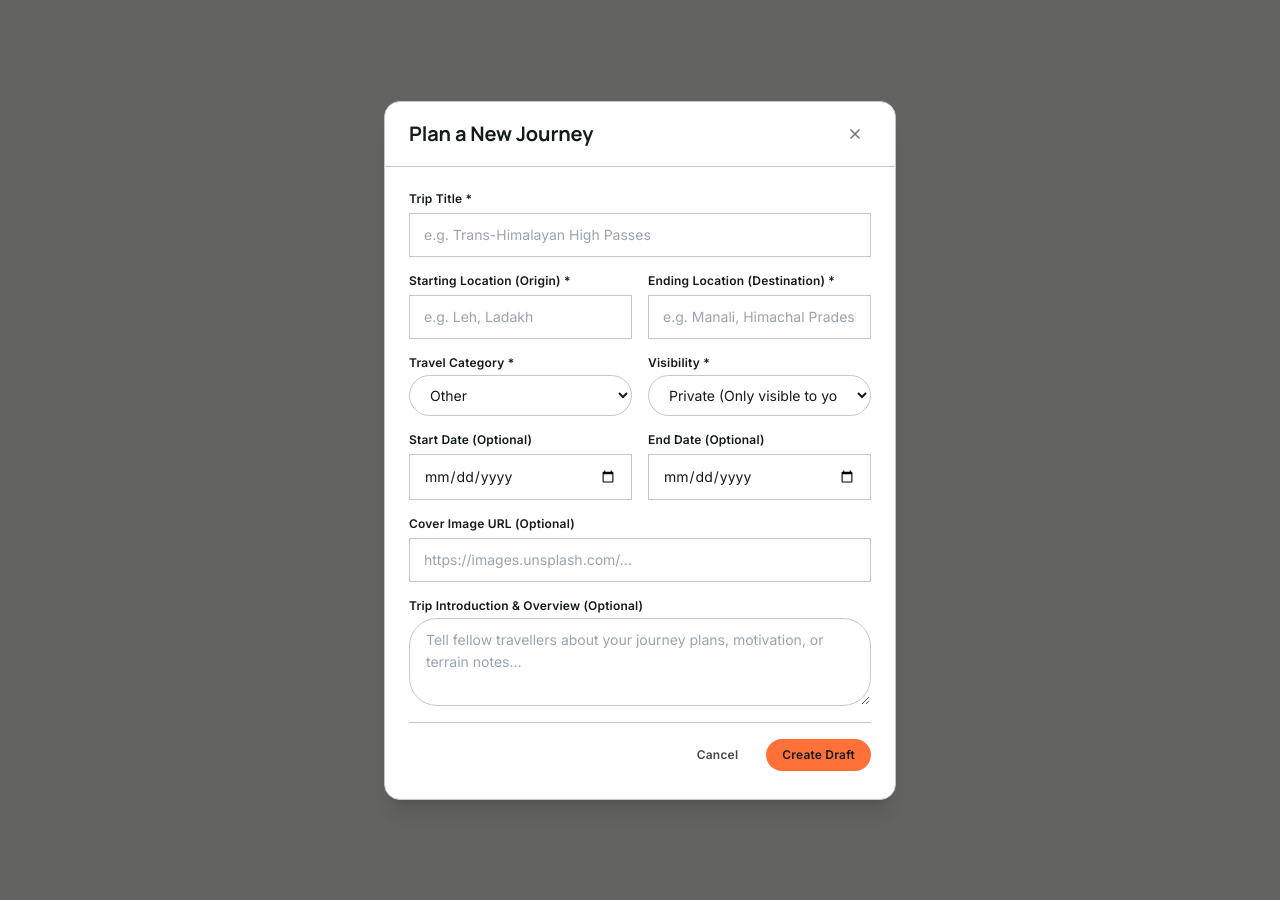
Test: Trip Management Frontend Components & Design System Suite › validates trip dates in TripEditorModal
This screenshot has width=1280, height=900.
Step 1. Type "Zanskar Expedition" into the field with placeholder "e.g. Trans-Himalayan High Passes" → [640, 234], box left=409, top=212, right=871, bottom=256
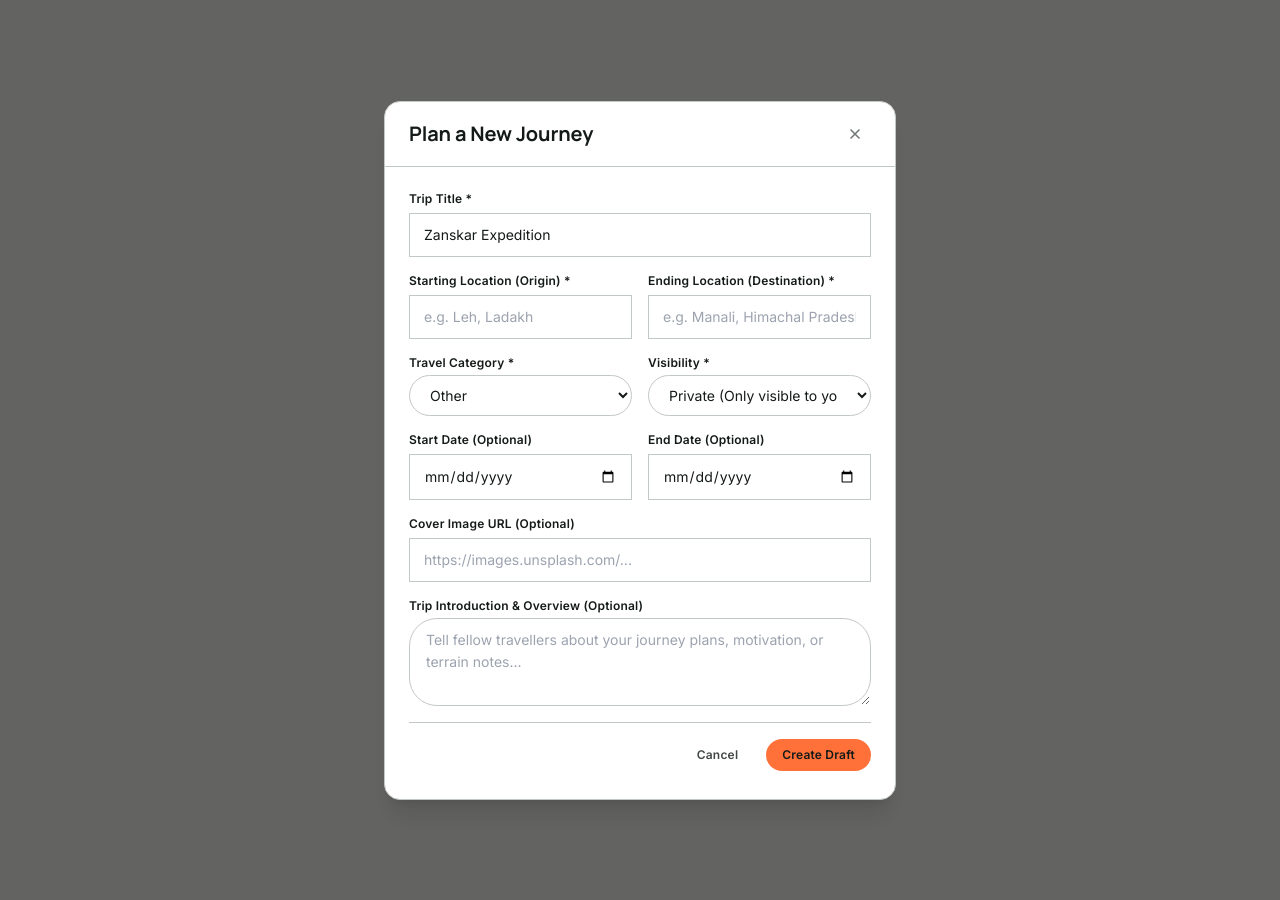
Step 2. Type "Leh" into the field with placeholder "e.g. Leh, Ladakh" → [520, 316], box left=409, top=294, right=632, bottom=338
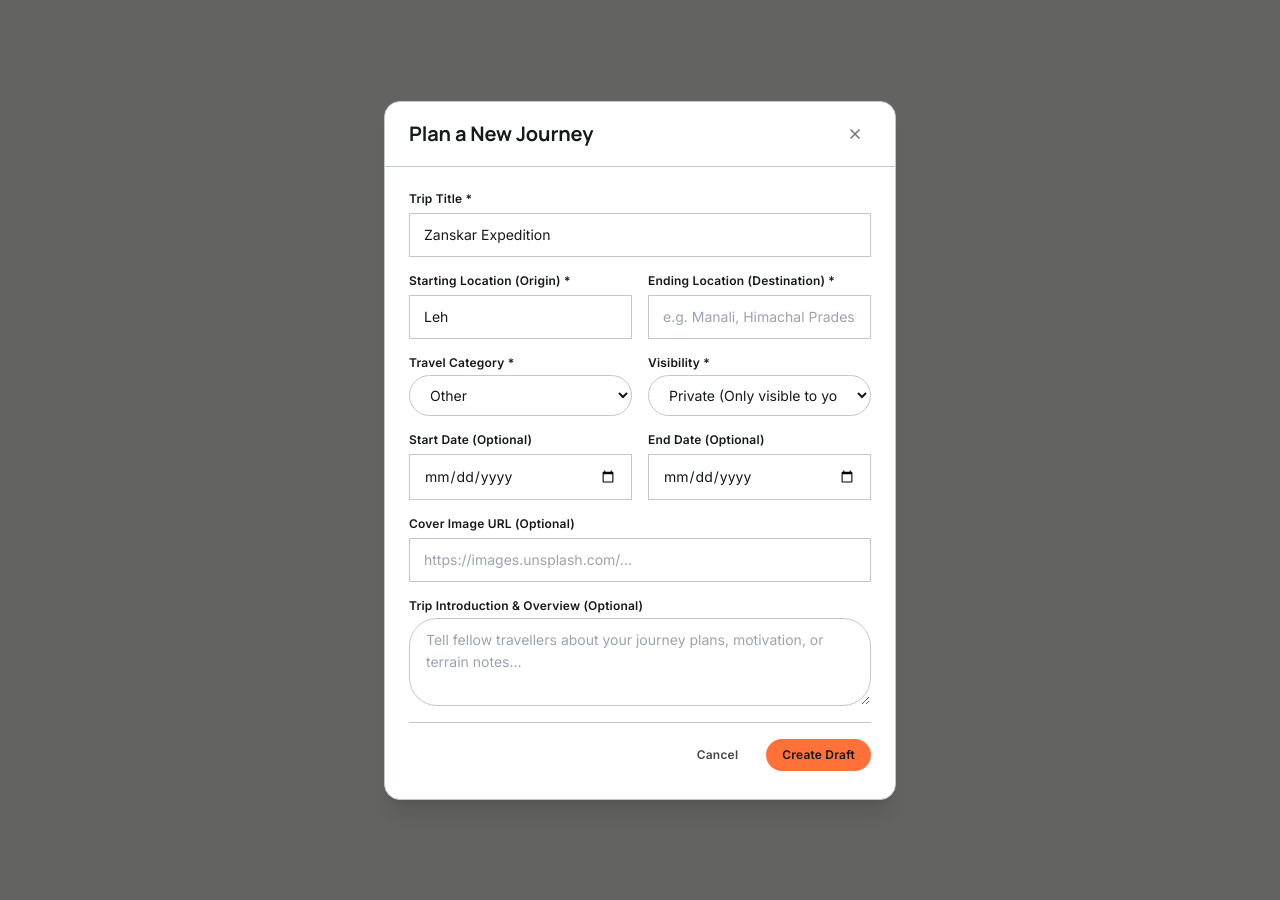
Step 3. Type "Manali" into the field with placeholder "e.g. Manali, Himachal Pradesh" → [760, 316], box left=648, top=294, right=871, bottom=338
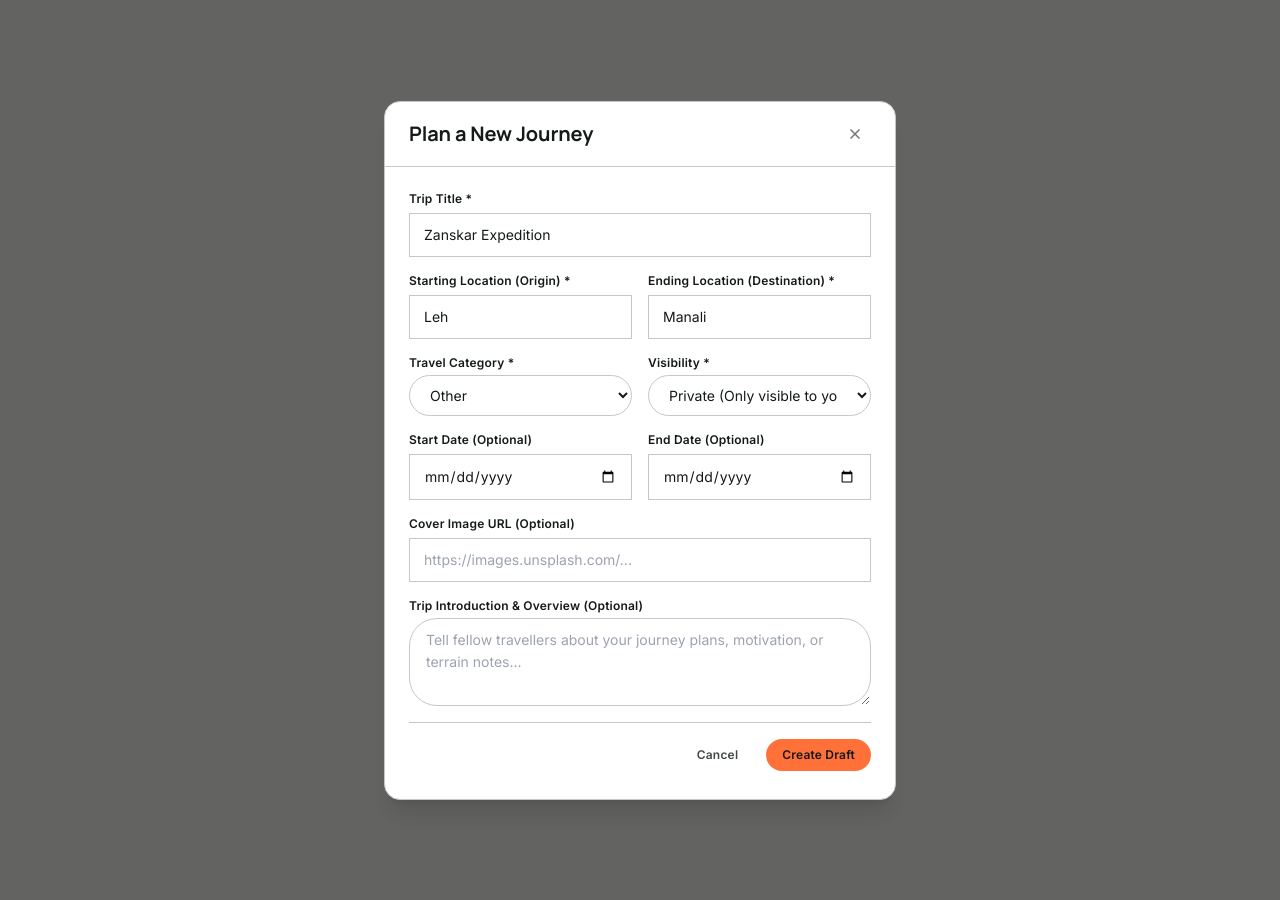
Step 4. Type "2026-08-10" into the date field labelled "Start Date (Optional)" → [520, 476], box left=409, top=454, right=632, bottom=500
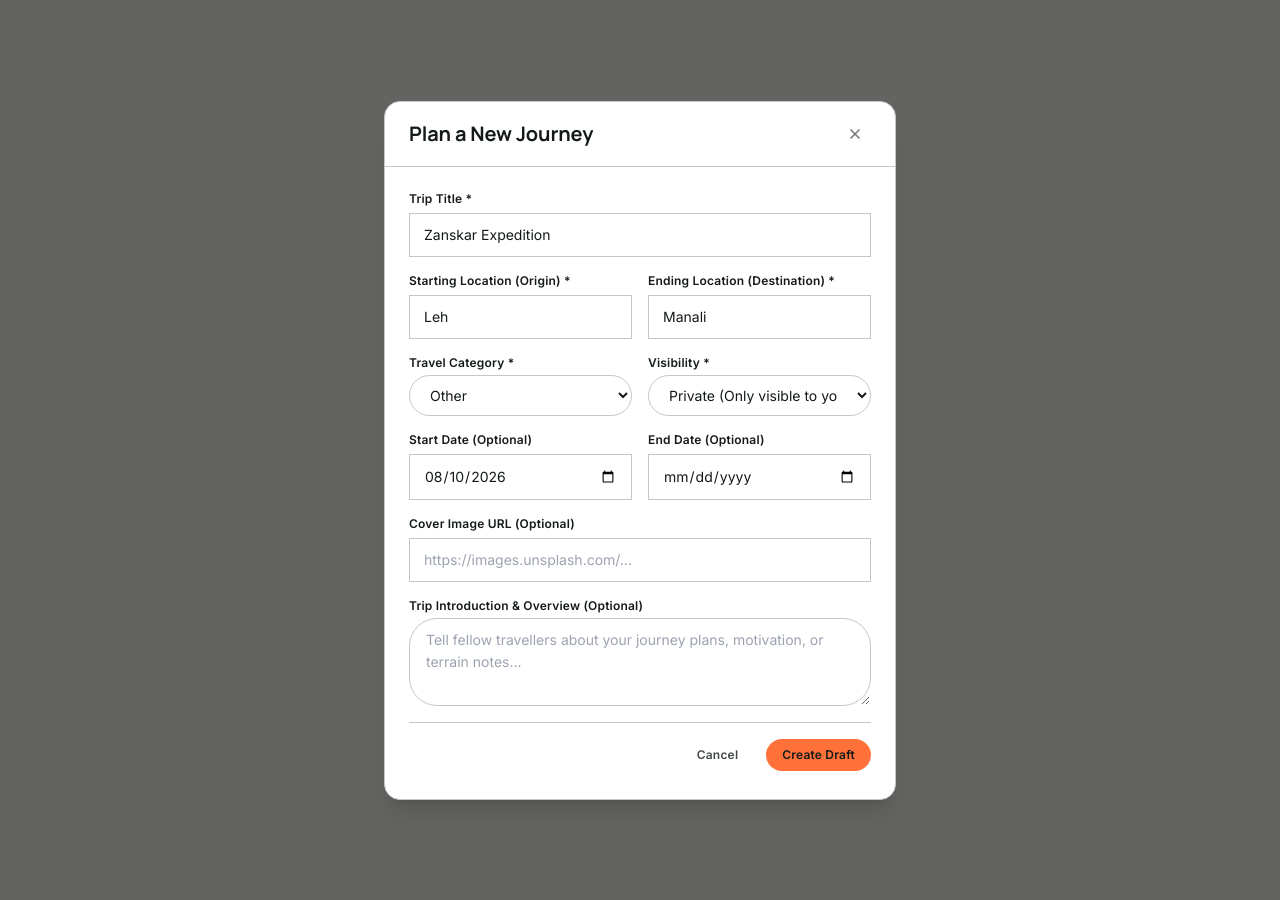
Step 5. Type "2026-08-05" into the date field labelled "End Date (Optional)" → [760, 476], box left=648, top=454, right=871, bottom=500
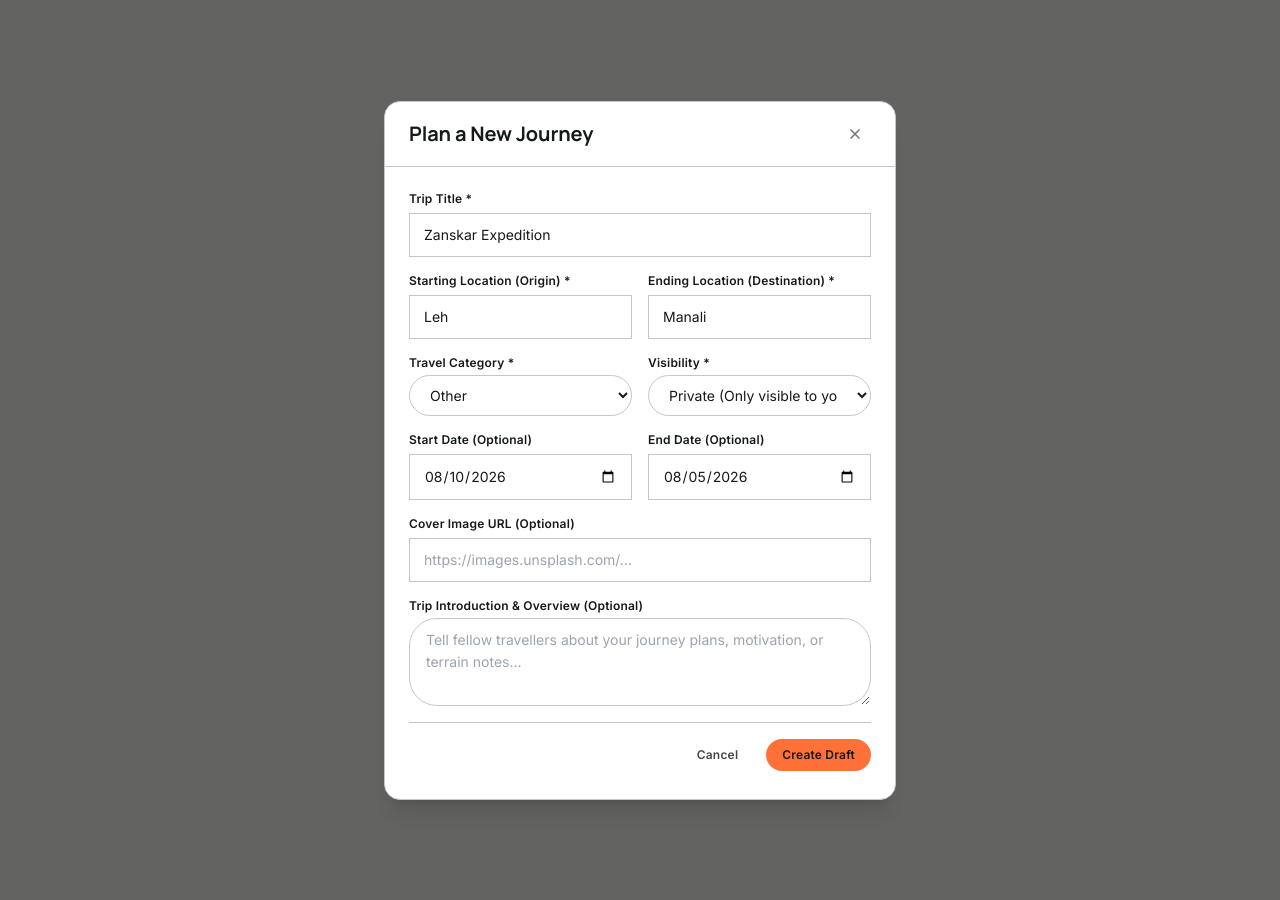
Step 6. Click the button "Create Draft" → [819, 754], box left=766, top=738, right=871, bottom=770
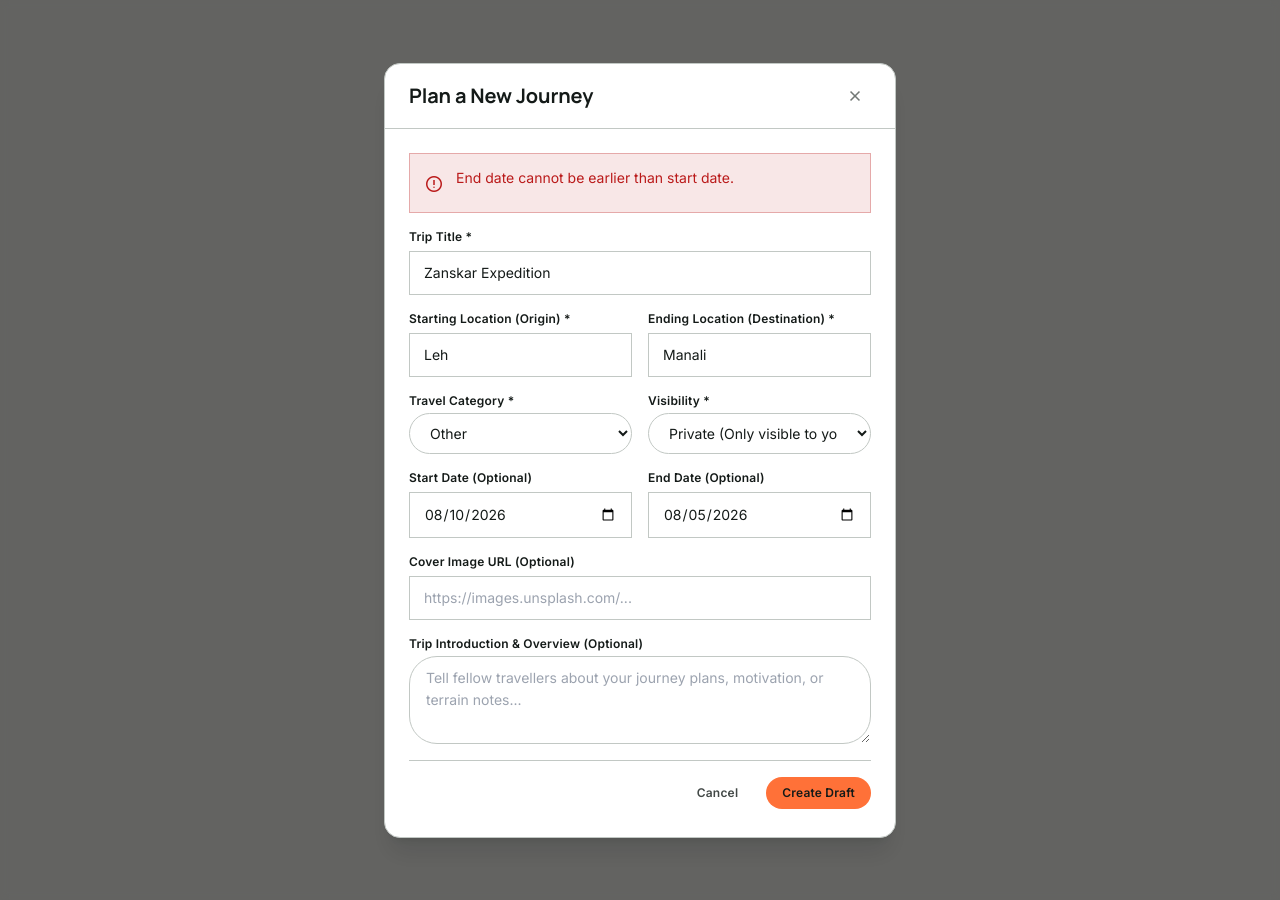
Check: the text "End date cannot be earlier than start date." is shown, box left=456, top=168, right=734, bottom=186
